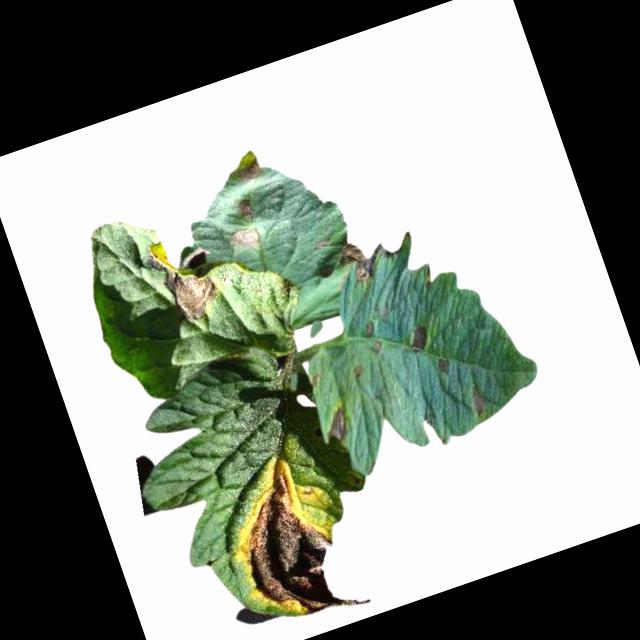Early_blight: (219, 448, 372, 640), (140, 222, 236, 332), (336, 236, 382, 287), (321, 401, 355, 444), (462, 383, 492, 422), (228, 224, 263, 253), (404, 321, 433, 355), (237, 155, 265, 184), (235, 194, 259, 222), (434, 354, 455, 376), (371, 337, 388, 357), (353, 365, 368, 378)
